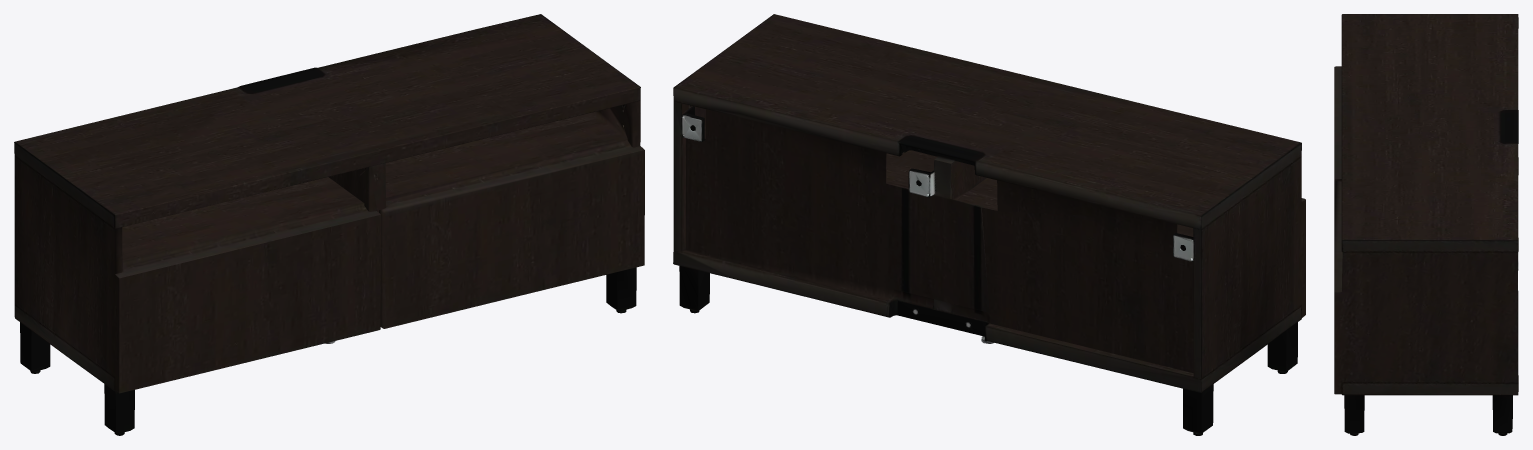
3 renders of one model, left to right at view 1: azimuth 30°, elevation 25°; view 2: azimuth 150°, elevation 25°; view 3: azimuth 270°, elevation 25°, orthographic. The views are drawn at different scales.
Parts seen in each view (by area): view 1: ProcessedMeshNode; view 2: ProcessedMeshNode; view 3: ProcessedMeshNode.
Boxes of the visible parts, x1,y1,x2,y2 form: ProcessedMeshNode: (14, 14, 644, 435); ProcessedMeshNode: (673, 14, 1305, 435); ProcessedMeshNode: (1334, 14, 1518, 435).
Size of the model in its own units: 1.2 by 0.4968 by 0.4137.
1 material, 1 textured.
